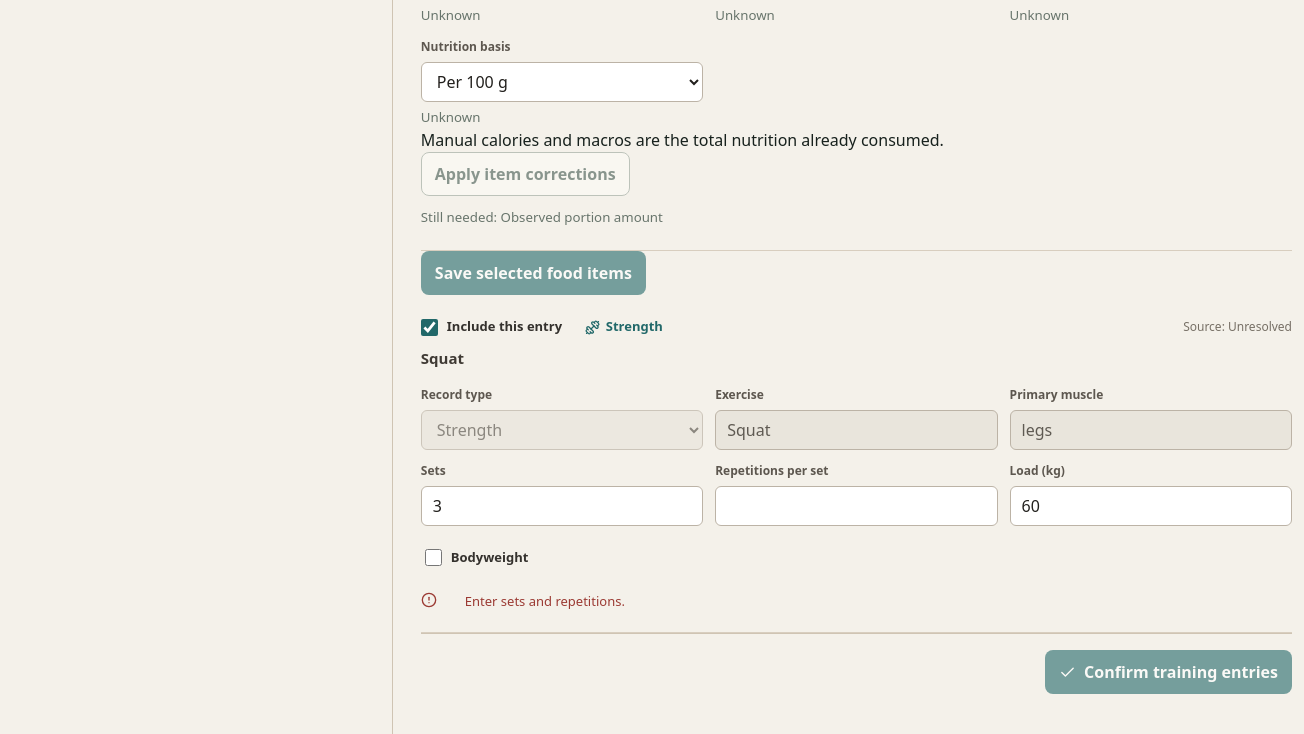
Scenario: local training edits across food commands with the real draft hook › retains unsaved reps after a successful food answer without saving training
(page scrolled)
Type "8" into the number field labelled "Repetitions per set" at (856, 506), box [715,486,998,526]
(page scrolled)
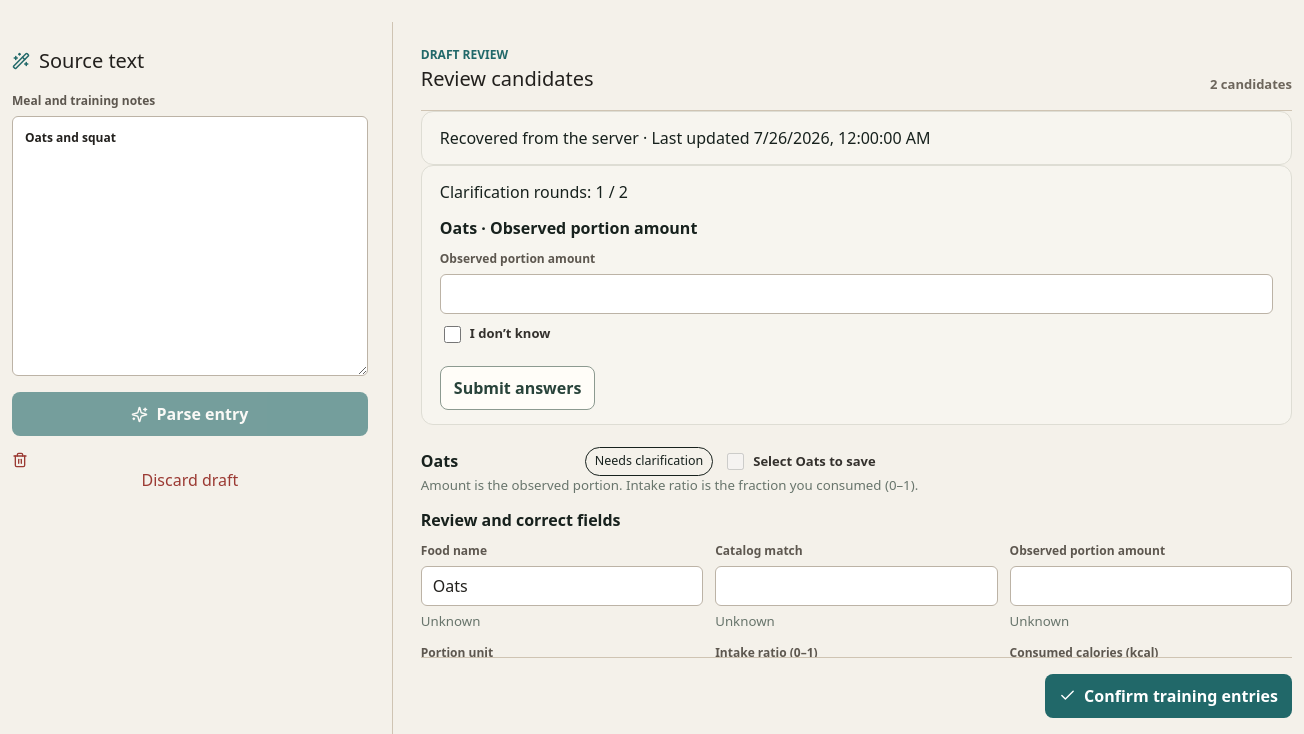
Click the checkbox labelled "I don’t know" at (452, 334), box [444,326,461,342]
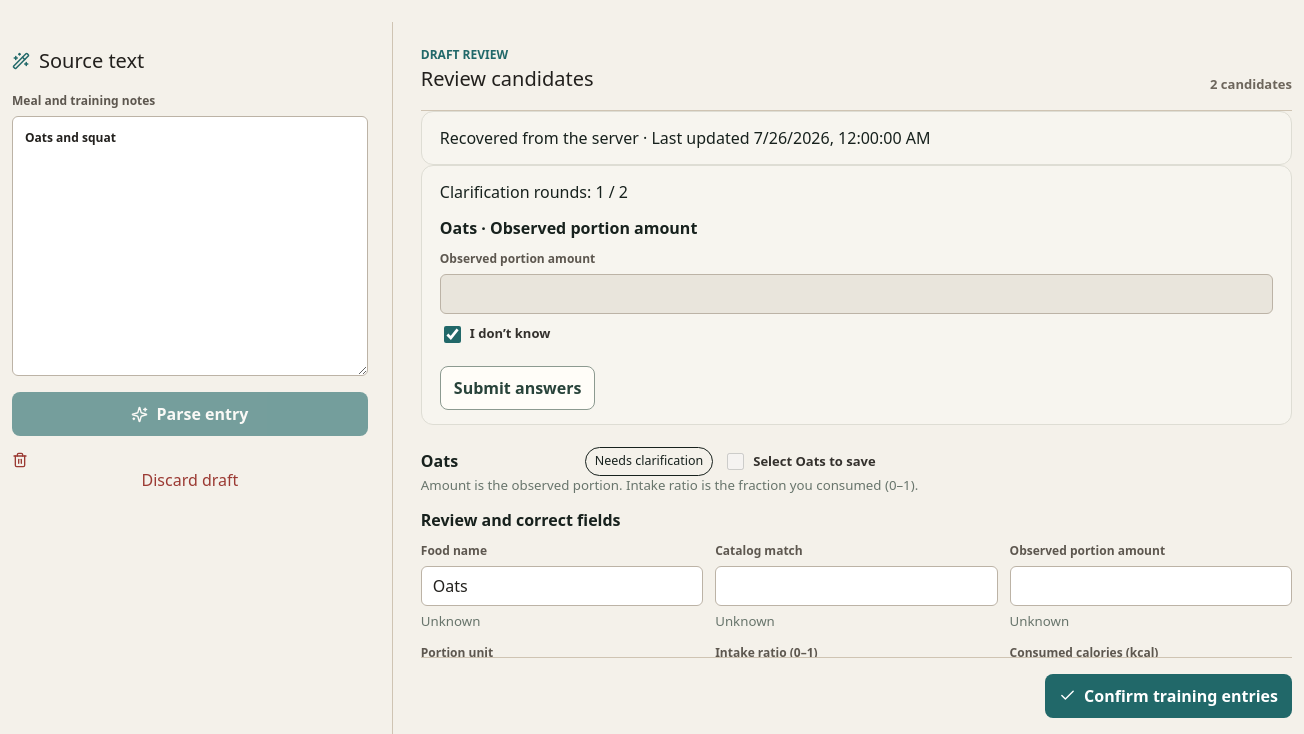
Click the button "Submit answers" at (518, 388), box [440,366,596,410]
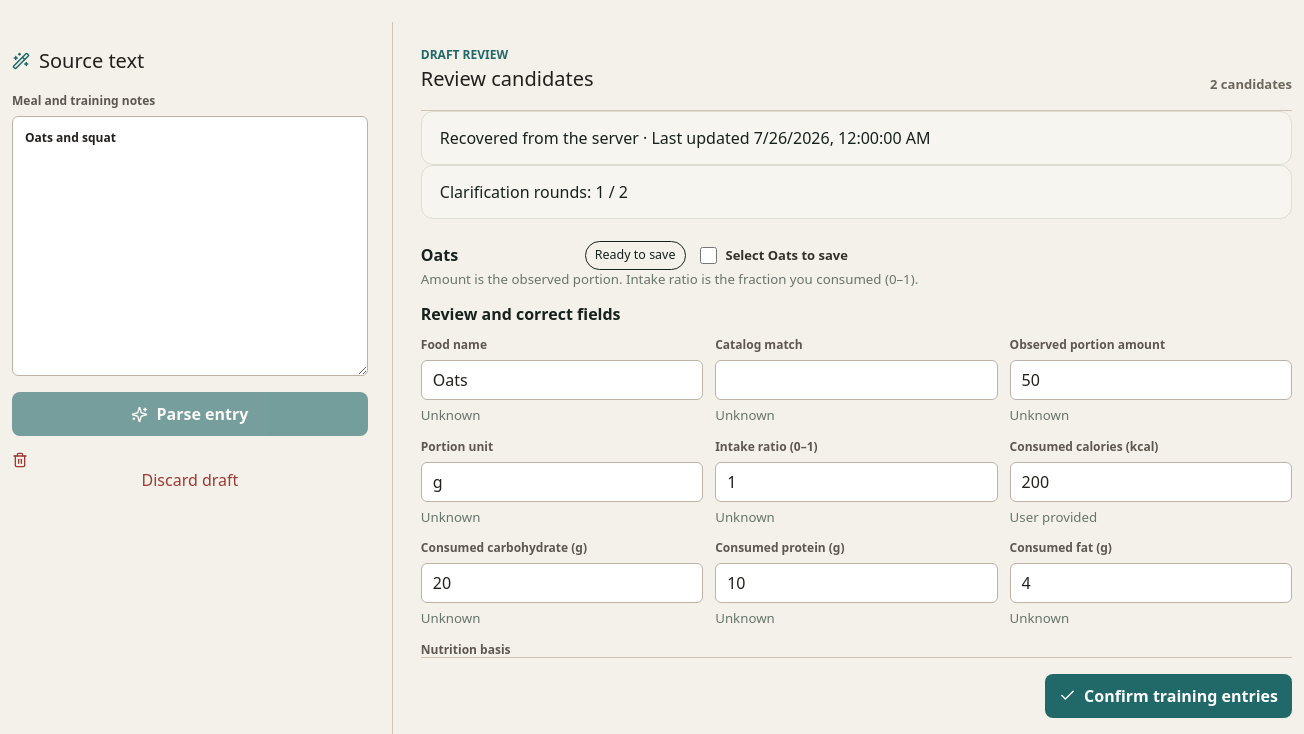
Expected: the number field labelled "Observed portion amount" holds "50", [1010,360,1292,400]
